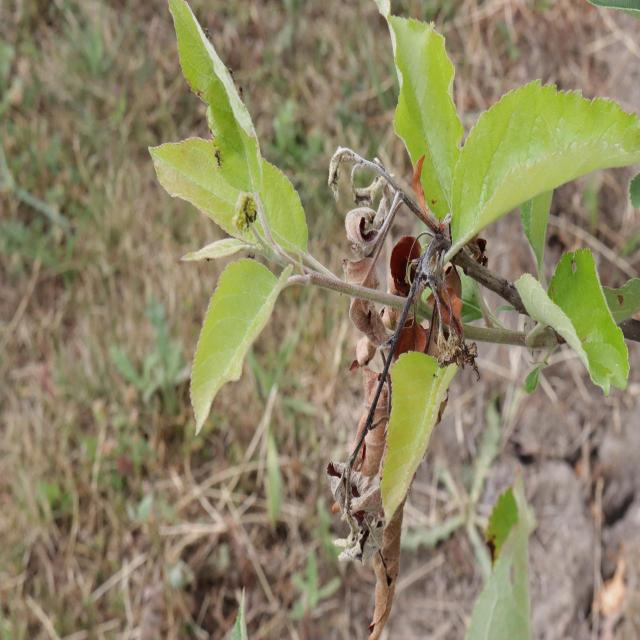-FireBlight-: (324, 166, 467, 640)
